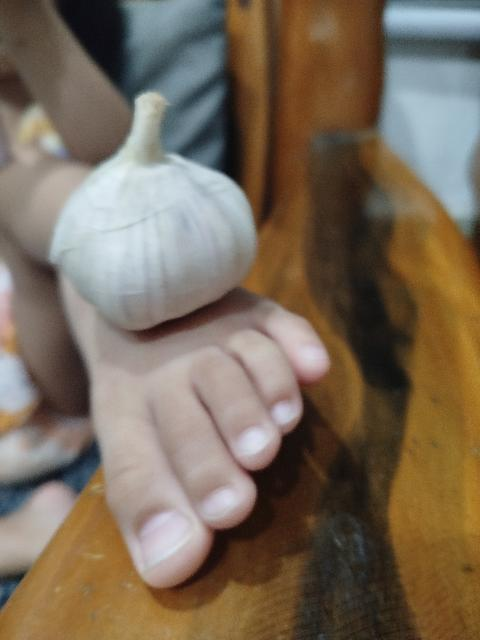garlic: (49, 90, 259, 332)
